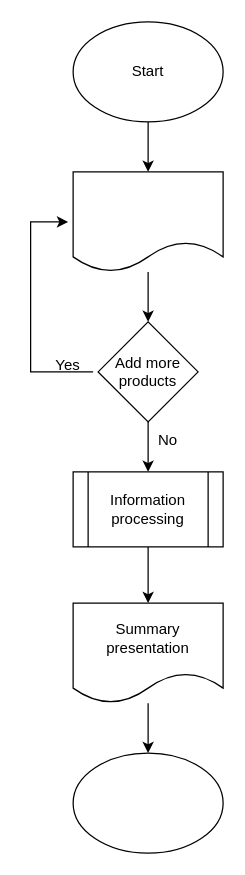
The diagram is 245 pixels wide and 875 high, and some of its shapes have lost their labels. Each missing label, with the centre of its shape:
"End" goes at [147,802].
"Product name Product price Quantity sold" goes at [147,221].
